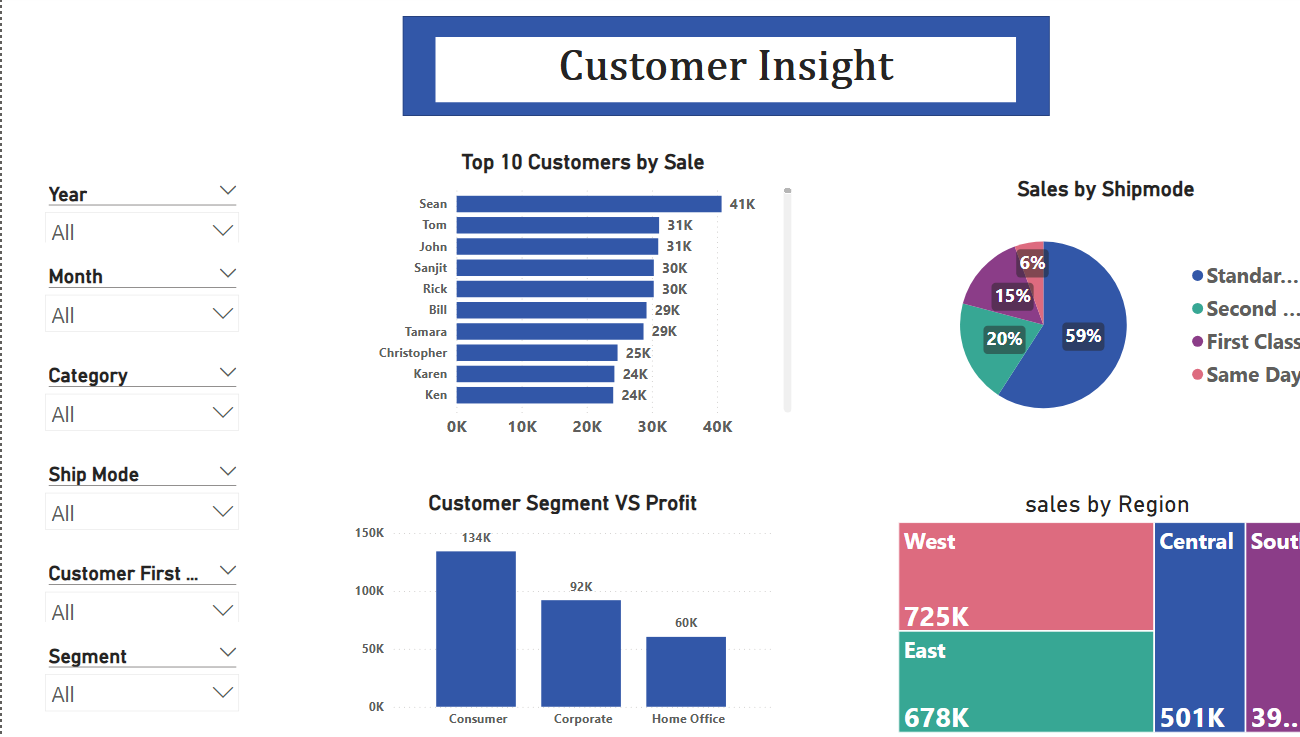

The page's visual inventory and layout, read from the dashboard file:
{"tool":"powerbi","page":{"name":"Customer Insight","canvas":[1280,720],"ordinal":2},"visuals":[{"type":"clusteredBarChart","title":"Top 10 Customers by Sale","fields":{"Y":["New Messure.Total sales"],"Category":["Orders.Customer First name"]},"box":[356.2,150.6,414.5,289.8],"z":0},{"type":"slicer","fields":{"Values":["Orders.Category"]},"box":[32,352,208,80],"z":0,"group":"g1"},{"type":"slicer","fields":{"Values":["Orders.Ship Mode"]},"box":[32,448,208,96],"z":1000,"group":"g1"},{"type":"clusteredColumnChart","title":"Customer Segment VS Profit","fields":{"Category":["Orders.Segment"],"Y":["New Messure.Total profit"]},"box":[336,480,416,240],"z":1000},{"type":"slicer","fields":{"Values":["Orders.Customer First name"]},"box":[32,544,208,64],"z":2000,"group":"g1"},{"type":"treemap","title":"sales by Region","fields":{"Values":["New Messure.Total sales"],"Details":["Orders.Region"]},"box":[864,480,416,240],"z":2000},{"type":"pieChart","title":"Sales by Shipmode","fields":{"Category":["Orders.Ship Mode"],"Y":["New Messure.Total sales"]},"box":[863,176.5,416.1,263.9],"z":3000},{"type":"slicer","fields":{"Values":["Orders.Segment"]},"box":[32,624,208,80],"z":3000,"group":"g1"},{"type":"shape","box":[388.6,21,628.3,97.2],"z":4000},{"type":"slicer","fields":{"Values":["DateTable.Month"]},"box":[32,256,208,96],"z":4000,"group":"g1"},{"type":"slicer","fields":{"Values":["DateTable.Year"]},"box":[32,176,208,64],"z":5000,"group":"g1"},{"type":"group","id":"g1","title":"Group 2","box":[32,176,208,528],"z":5000},{"type":"textbox","box":[421,40.5,563.5,63.1],"z":6000}]}

Visuals, with their boxes in screenshot pixels (x1, y1, x2, y2), scaled from the page's 1280x720 canvas onto the 1300x737 screenshot:
"Top 10 Customers by Sale" clusteredBarChart: [362,154,783,451]
slicer - Orders.Category: [32,360,244,442]
slicer - Orders.Ship Mode: [32,459,244,557]
"Customer Segment VS Profit" clusteredColumnChart: [341,491,764,736]
slicer - Orders.Customer First name: [32,557,244,622]
"sales by Region" treemap: [878,491,1299,736]
"Sales by Shipmode" pieChart: [876,181,1299,451]
slicer - Orders.Segment: [32,639,244,721]
shape: [395,21,1033,121]
slicer - DateTable.Month: [32,262,244,360]
slicer - DateTable.Year: [32,180,244,246]
"Group 2" group: [32,180,244,721]
textbox: [428,41,1000,106]
